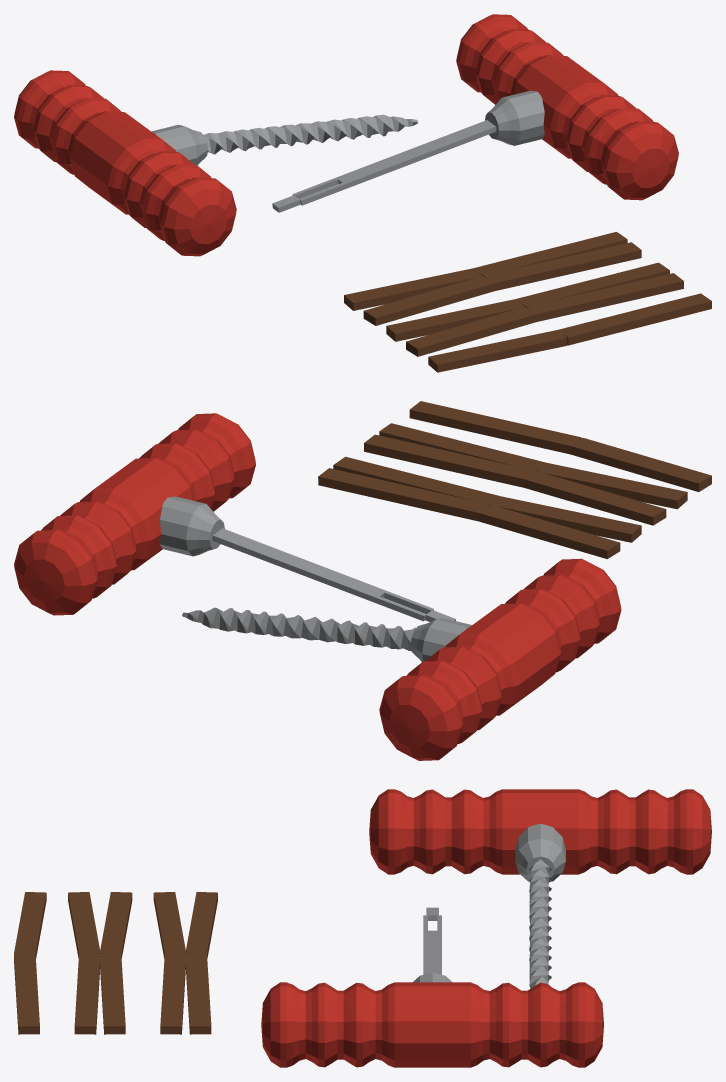
File: item-tire-plug-kit.glb
3 views of the same model, one above another, from view 1: azimuth 30°, elevation 25°; view 2: azimuth 150°, elevation 25°; view 3: azimuth 270°, elevation 25° (orthographic). The views are drawn at different scales.
Parts seen in each view (by area): view 1: tirePlugKit; view 2: tirePlugKit; view 3: tirePlugKit.
Part boxes in pixels (bbox=[...]): tirePlugKit: bbox=[14, 14, 711, 372]; tirePlugKit: bbox=[14, 401, 711, 760]; tirePlugKit: bbox=[14, 789, 711, 1067].
Size of the model in its own units: 0.171 by 0.027 by 0.2199.
